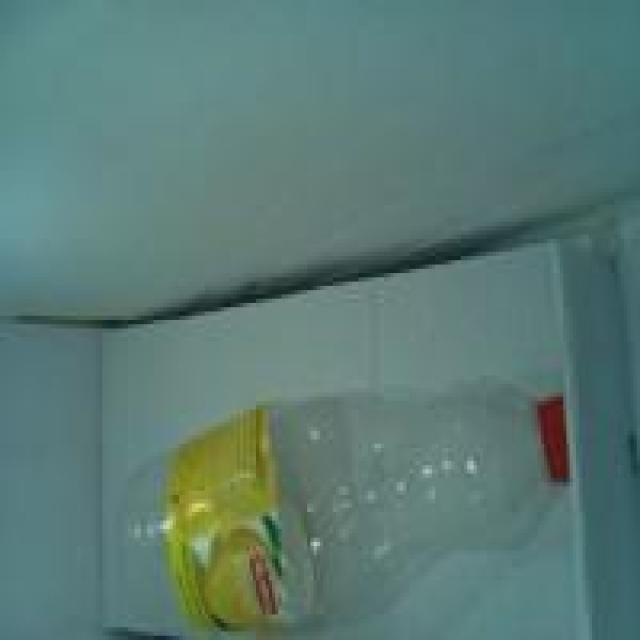bottle: (121, 371, 566, 640)
